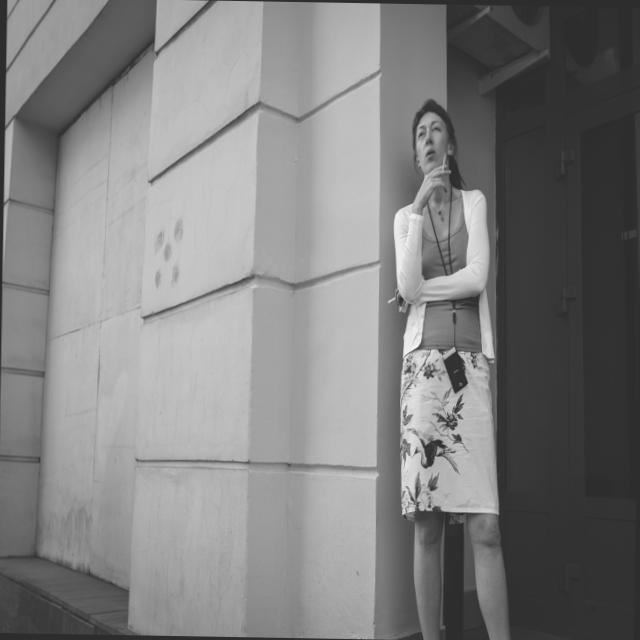cigarette: (433, 148, 450, 181)
